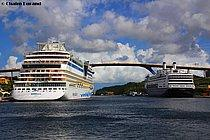Ship: (10, 37, 101, 105), (143, 60, 203, 102)
